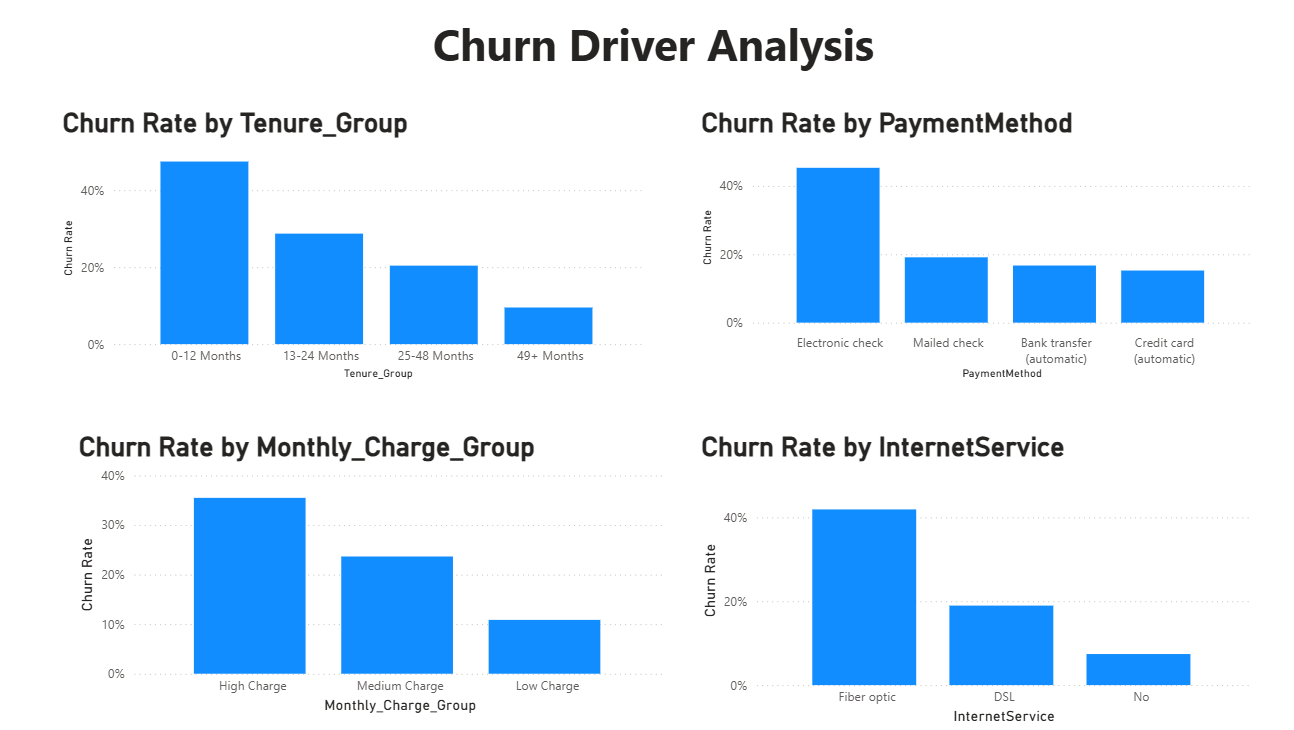

The page's visual inventory and layout, read from the dashboard file:
{"tool":"powerbi","page":{"name":"Churn Driver Analysis","canvas":[1280,720],"ordinal":1},"visuals":[{"type":"textbox","box":[9.6,15.1,1270.7,81],"z":0},{"type":"clusteredColumnChart","fields":{"Category":["customer_churn_powerbi.Tenure_Group"],"Y":["customer_churn_powerbi.Churn Rate"]},"box":[62.6,109.8,576.9,272.5],"z":1000},{"type":"clusteredColumnChart","fields":{"Category":["customer_churn_powerbi.PaymentMethod"],"Y":["customer_churn_powerbi.Churn Rate"]},"box":[686.7,109.8,547.7,272.5],"z":2000},{"type":"clusteredColumnChart","fields":{"Category":["customer_churn_powerbi.InternetService"],"Y":["customer_churn_powerbi.Churn Rate"]},"box":[686.7,426.8,547.7,293.3],"z":3000},{"type":"clusteredColumnChart","fields":{"Category":["customer_churn_powerbi.Monthly_Charge_Group"],"Y":["customer_churn_powerbi.Churn Rate"]},"box":[77.8,426.8,583.8,282.2],"z":4000}]}

Visuals, with their boxes in screenshot pixels (x1, y1, x2, y2), scaled from the page's 1280x720 canvas onto the 1294x730 screenshot:
textbox: 10:15:1293:97
clusteredColumnChart - customer_churn_powerbi.Tenure_Group x customer_churn_powerbi.Churn Rate: 63:111:646:388
clusteredColumnChart - customer_churn_powerbi.PaymentMethod x customer_churn_powerbi.Churn Rate: 694:111:1248:388
clusteredColumnChart - customer_churn_powerbi.InternetService x customer_churn_powerbi.Churn Rate: 694:433:1248:729
clusteredColumnChart - customer_churn_powerbi.Monthly_Charge_Group x customer_churn_powerbi.Churn Rate: 79:433:669:719
